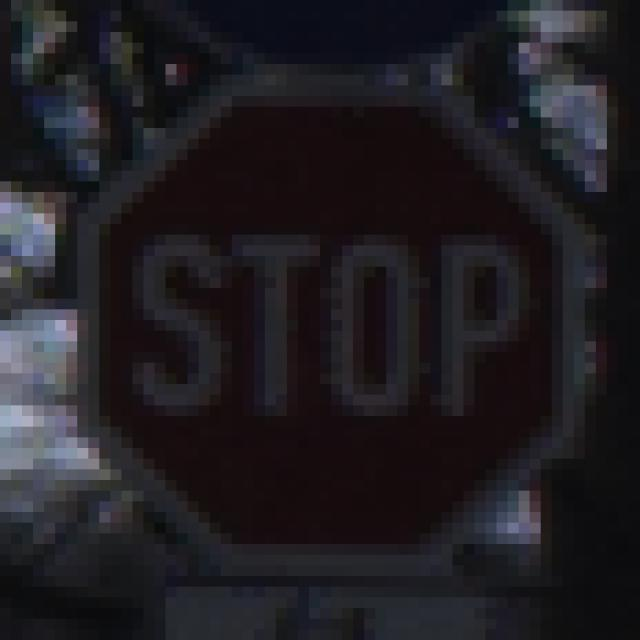STOP: (56, 54, 586, 588)
